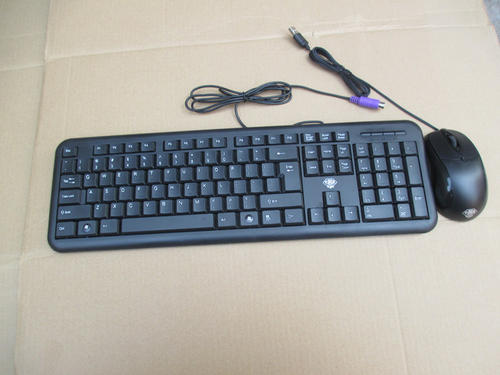keyboard: (45, 121, 438, 249)
mouse: (423, 128, 490, 223)
